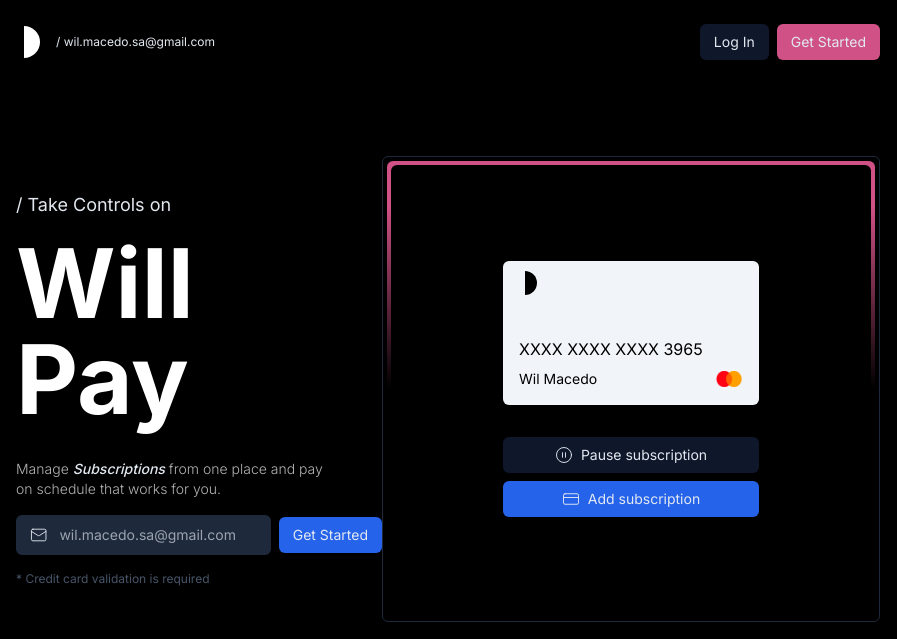
Test: Home case › should click in Log in button and redirect to login page
What coordinates should you click on to do the following:
click the link "Log In"
I would click on:
 (735, 42)
Its box is x1=700 y1=24 x2=769 y2=60.
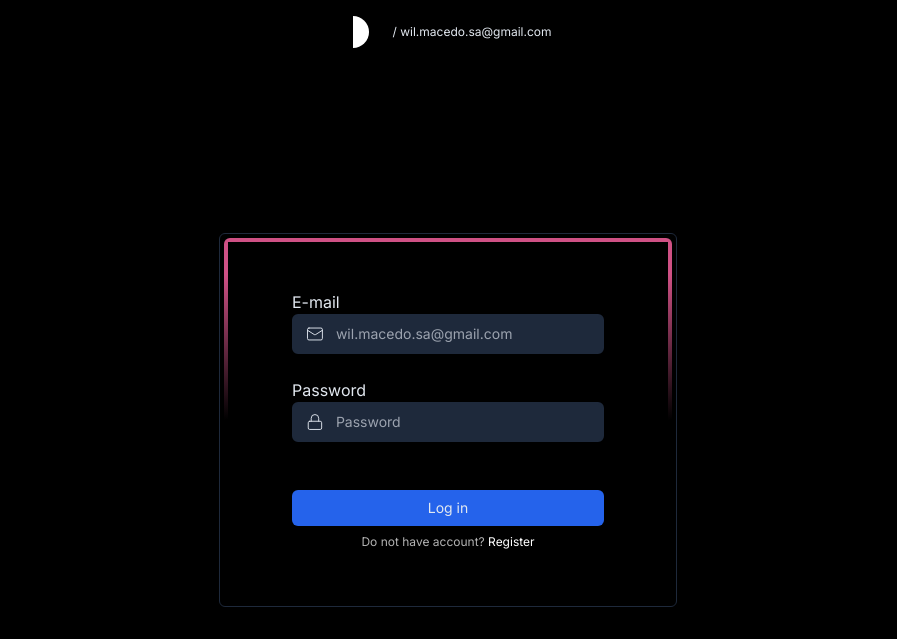
Now the text "Do not have account?" is shown, box x1=361 y1=534 x2=484 y2=549
